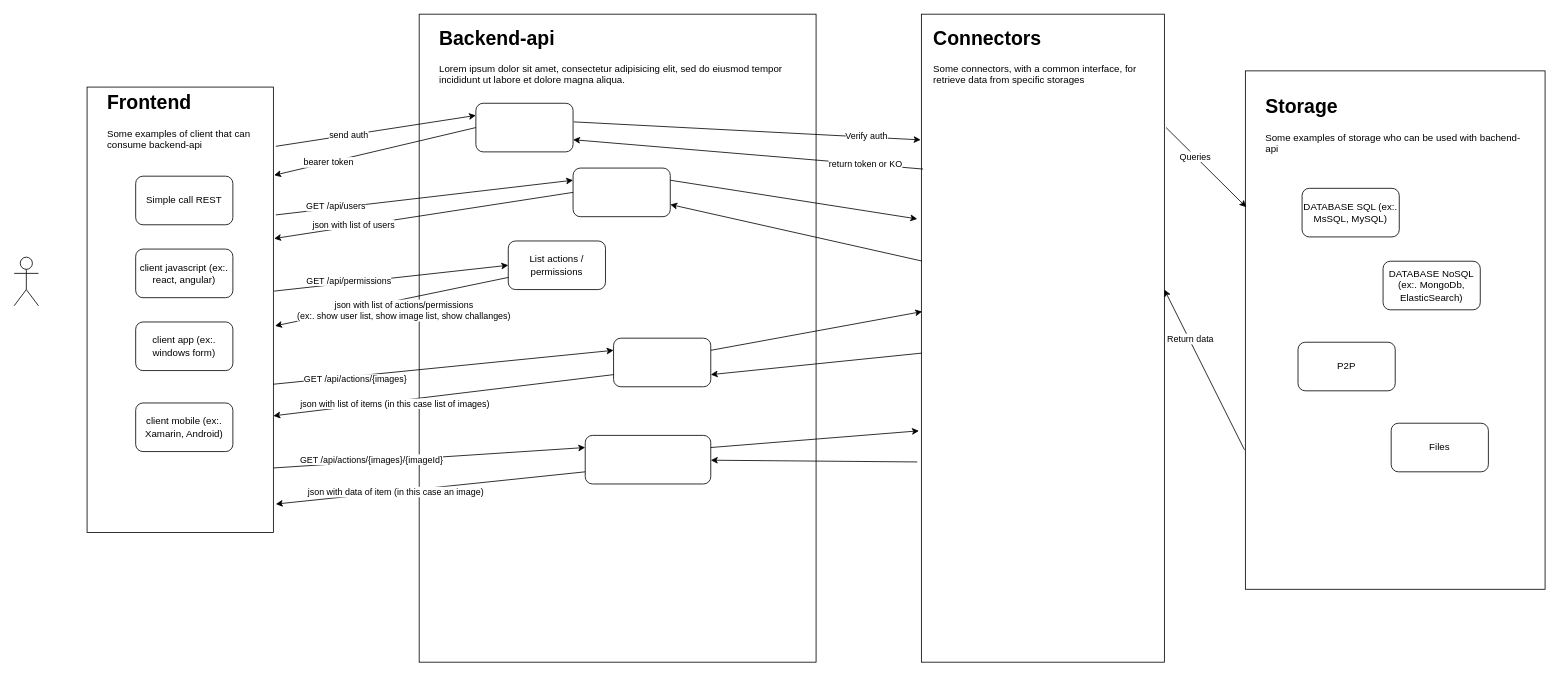
This 1559x676 diagram has some shape labels left out. The centre of each missing label's shape, as x and y in pixels:
"Actor" goes at (x=25, y=281).
"GetAction(images, Id)" goes at (x=647, y=459).
"GetActions(images)" goes at (x=662, y=362).
"List of users" goes at (x=621, y=192).
"LOGIN" goes at (x=524, y=127).
